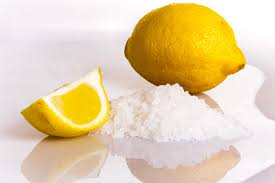lemon: (116, 4, 260, 98)
